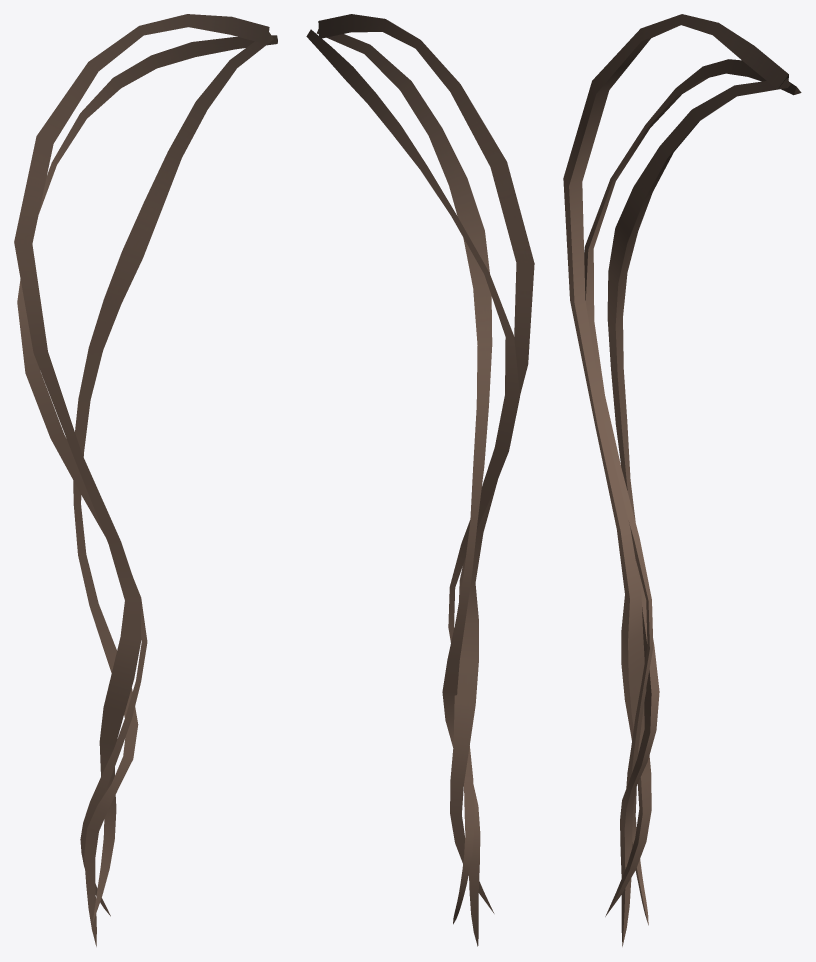
The model's file is Jungle_Vines_Curved_B.fbx.
3 views of the same model, side by side, from view 1: azimuth 30°, elevation 25°; view 2: azimuth 150°, elevation 25°; view 3: azimuth 330°, elevation 25° (orthographic). The views are drawn at different scales.
Parts seen in each view (by area): view 1: Jungle_Vines_Curved_B; view 2: Jungle_Vines_Curved_B; view 3: Jungle_Vines_Curved_B.
Boxes of the visible parts, bbox=[...] form: Jungle_Vines_Curved_B: bbox=[14, 14, 277, 946]; Jungle_Vines_Curved_B: bbox=[306, 14, 534, 946]; Jungle_Vines_Curved_B: bbox=[563, 14, 801, 946].
Bounding box in the file's own units: 1.76 × 6.2 × 0.7096.
